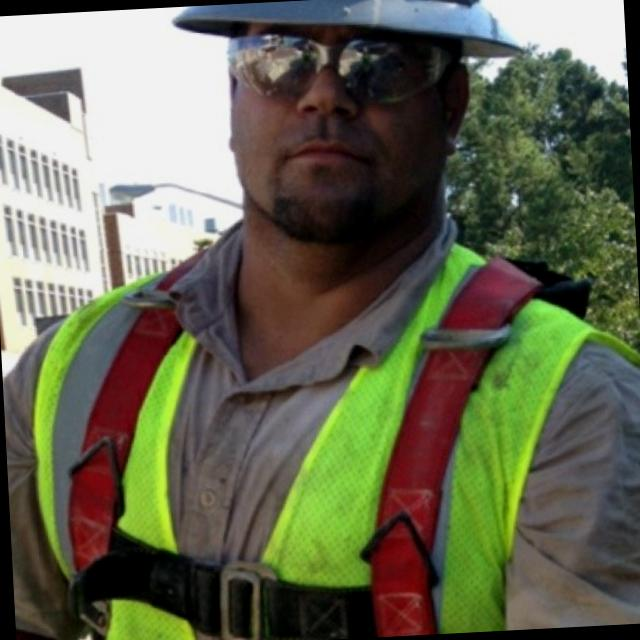goggles: (206, 25, 490, 111)
helmet: (155, 0, 526, 79)
vest: (33, 230, 598, 640)
